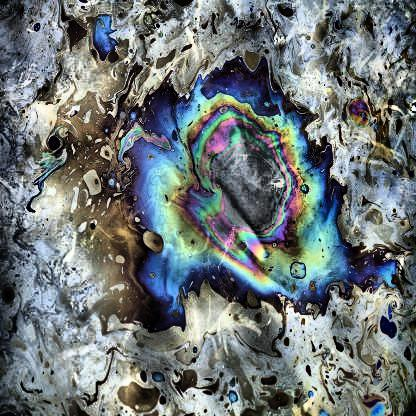rainbow: (119, 57, 350, 330)
